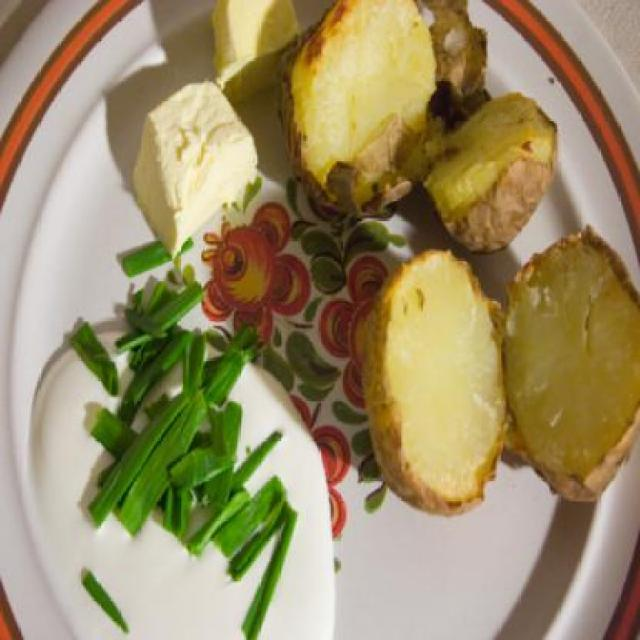Potato: (376, 248, 513, 540)
